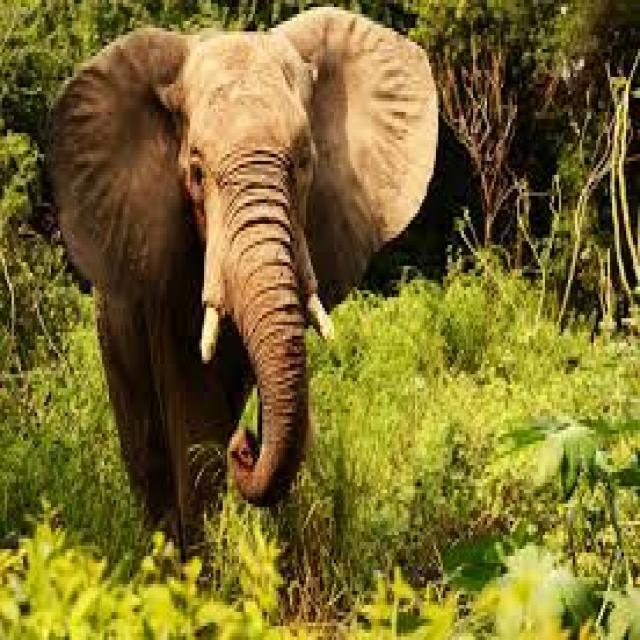Herbivorous: (44, 7, 441, 563)
